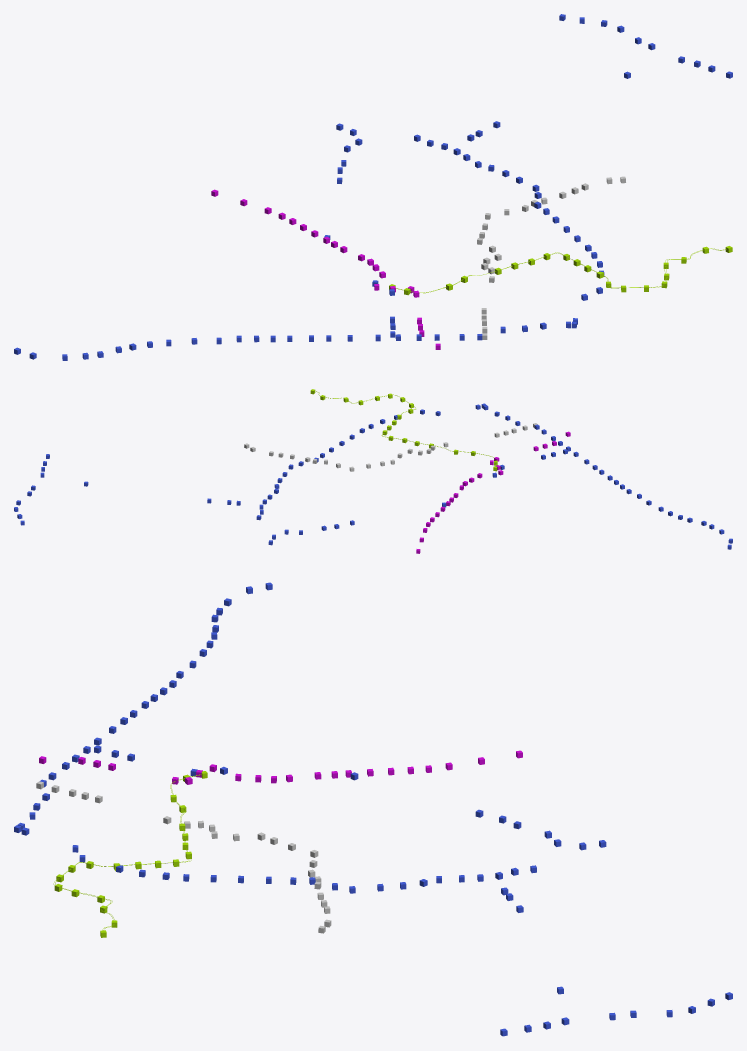
Rendered from subway_map_G_7_L_ACE_3.glb.
The picture shows the model from 3 angles, top to bottom: view 1: azimuth 30°, elevation 25°; view 2: azimuth 150°, elevation 25°; view 3: azimuth 270°, elevation 25°; orthographic projection. The views are drawn at different scales.
Size of the model in its own units: 77.03 by 0.4642 by 52.13.
